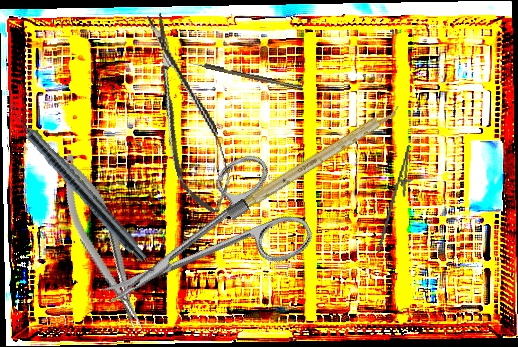Handpiece: (1, 100, 153, 265)
Hook Surgical: (188, 59, 303, 91)
Iris Scissors: (76, 143, 319, 345)
Micro Scissor: (135, 6, 238, 220)
Needle Holder: (50, 148, 152, 339), (376, 142, 419, 257)
Scalpel Handle: (225, 102, 404, 221)
